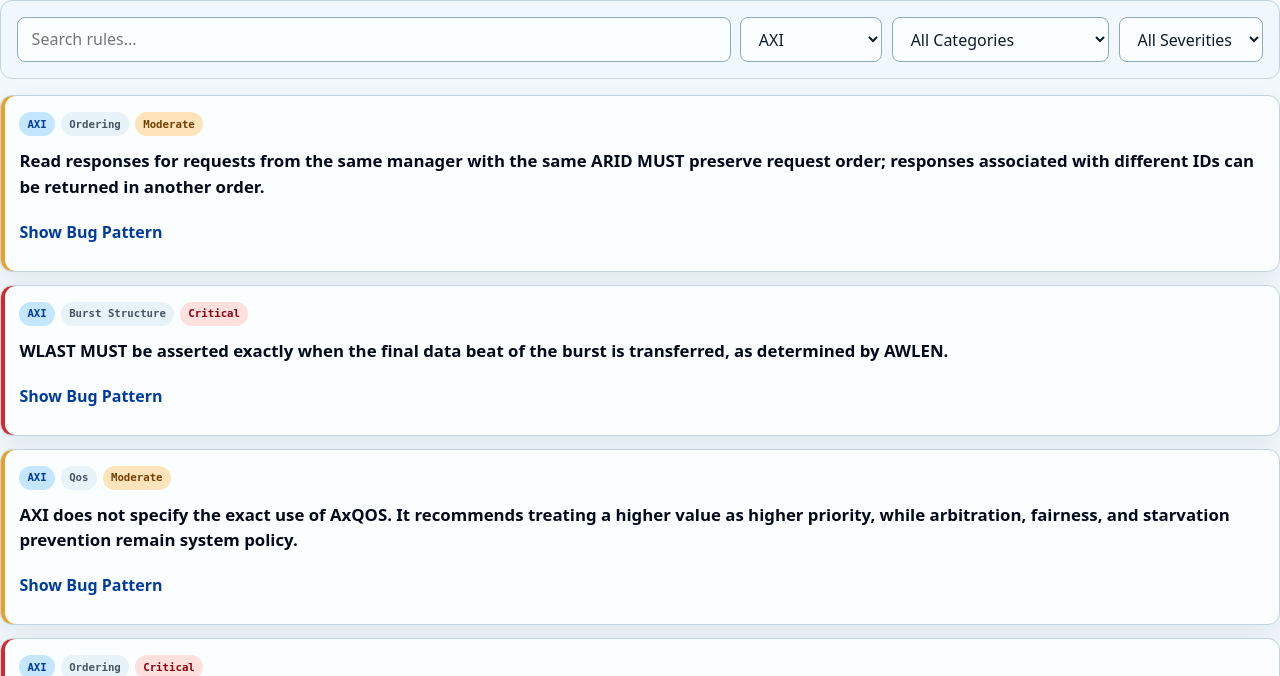
Test case: SpecRuleExplorer Component › toggles bug pattern visibility
The width and height of the screenshot is (1280, 676).
Click the 1st button "Show Bug Pattern" at (91, 233), box [19,211,163,255]
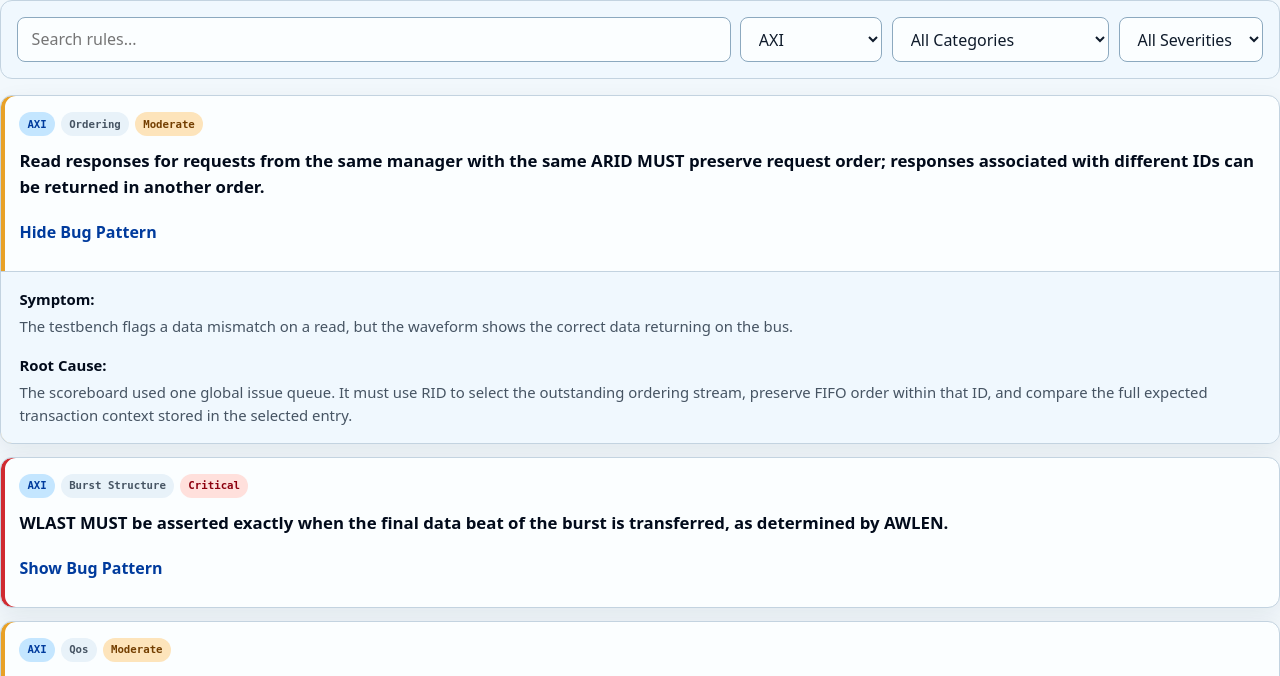
Now the button "Hide Bug Pattern" is shown, box [19,211,157,255]
Now the text "Symptom:" is shown, box [19,289,95,309]
